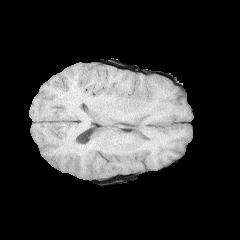glioma: (107, 71, 153, 108)
